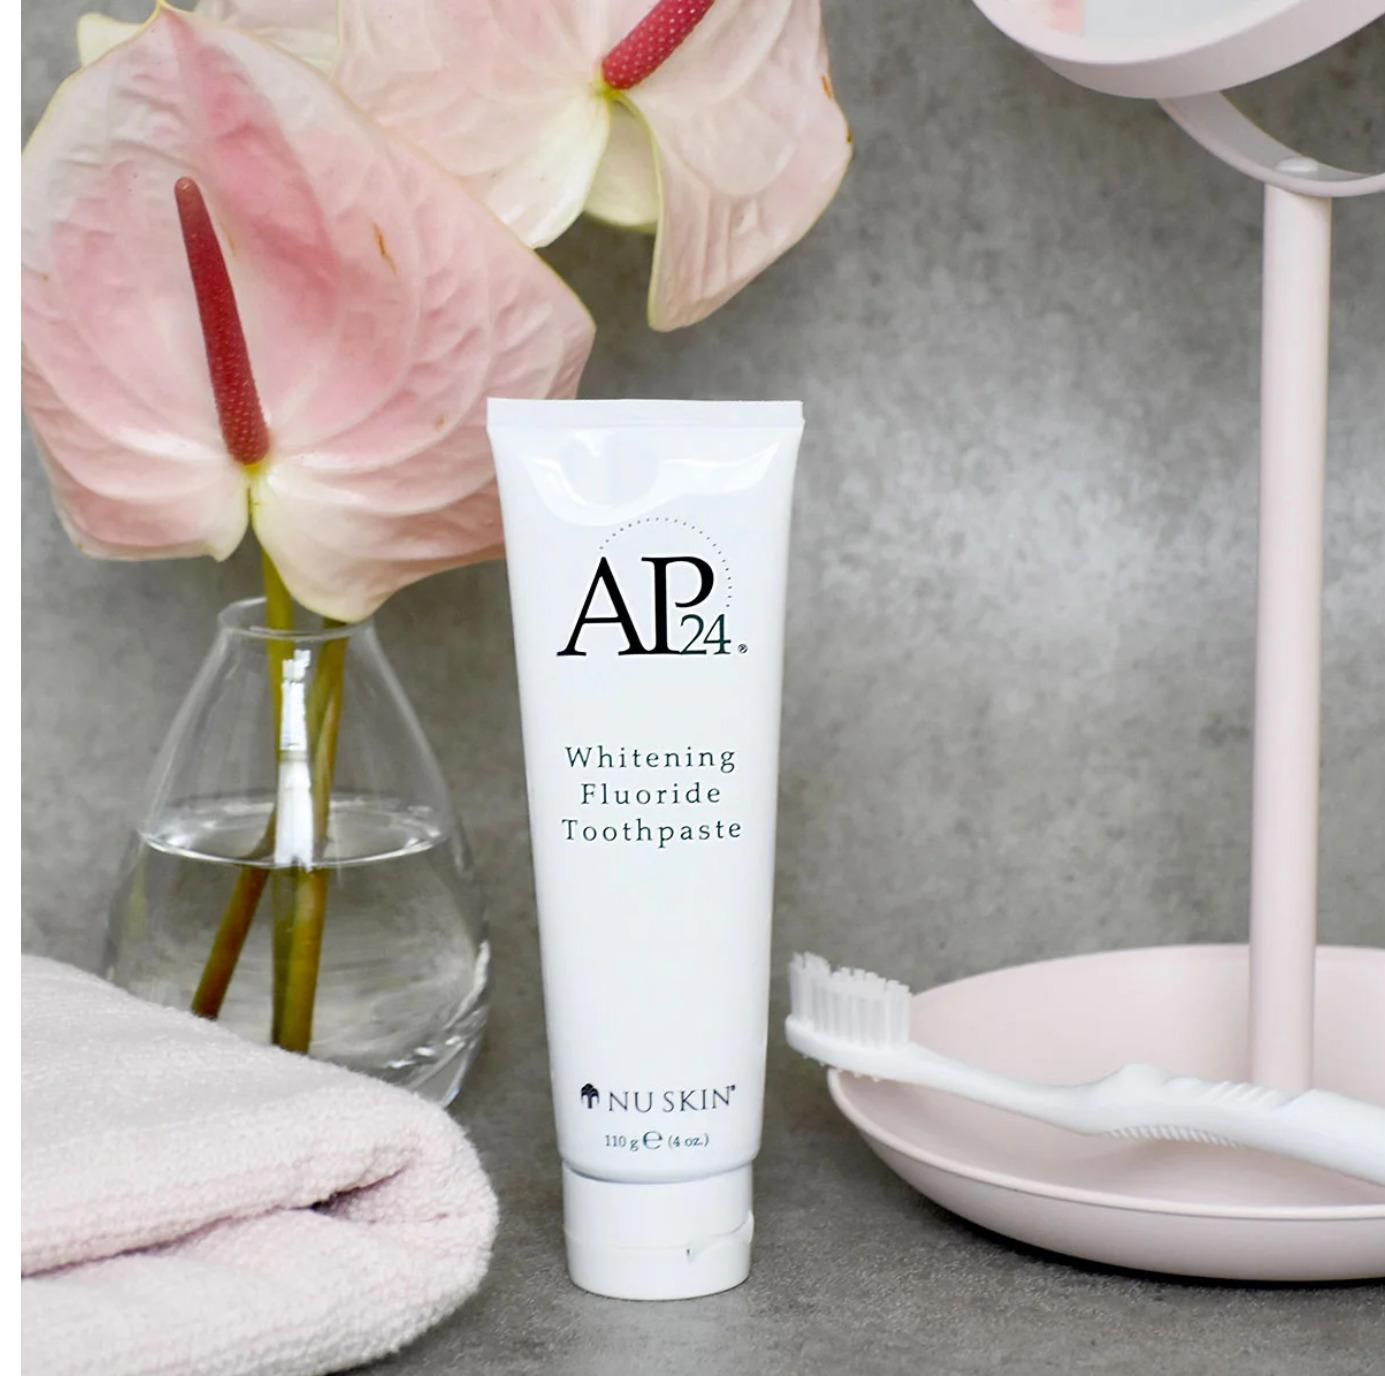toothpaste: (479, 387, 809, 1334)
